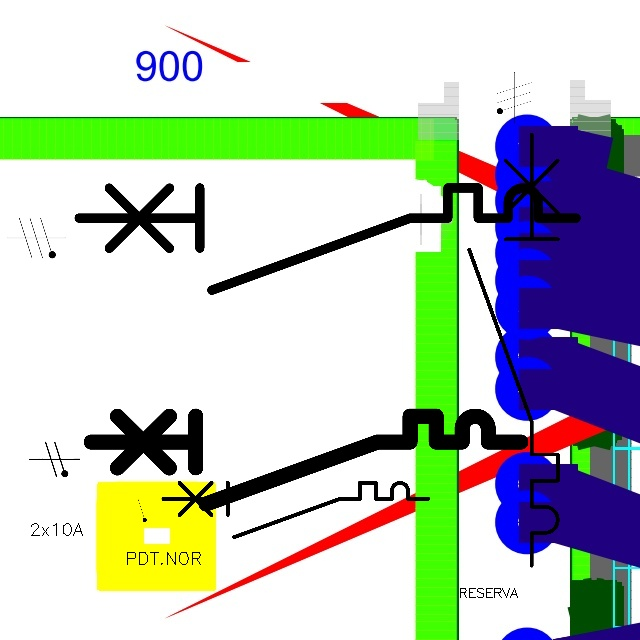interruptor_termomagnetico: (66, 175, 589, 303), (458, 123, 569, 577), (80, 405, 532, 515), (156, 476, 434, 544)
